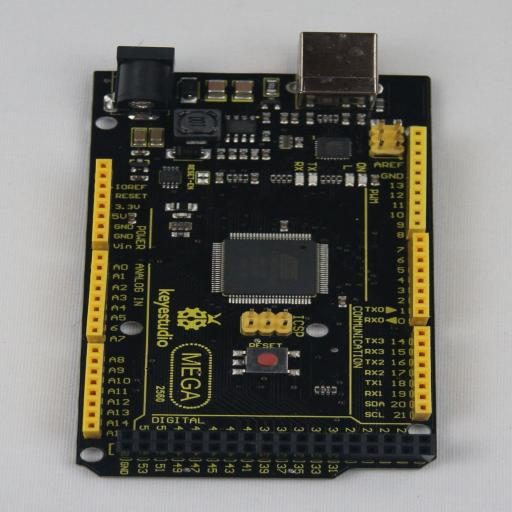Arduino Mega 2560 -Black and Yellow-: (76, 32, 436, 478)
